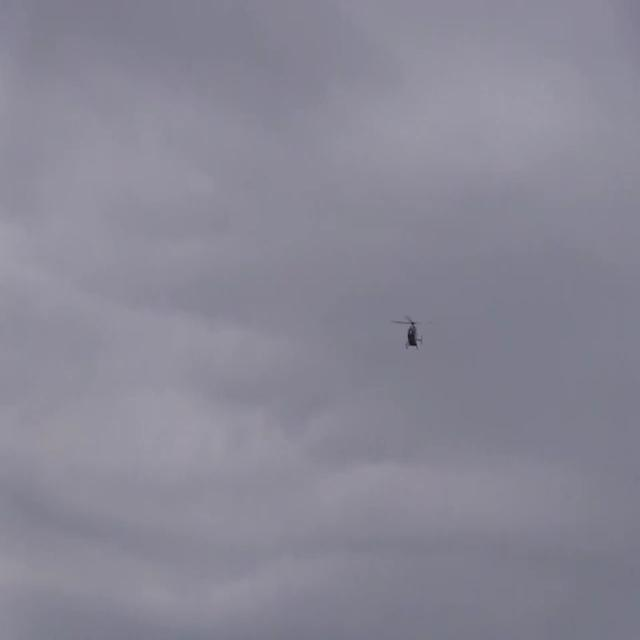Helicopter: (382, 304, 440, 362)
